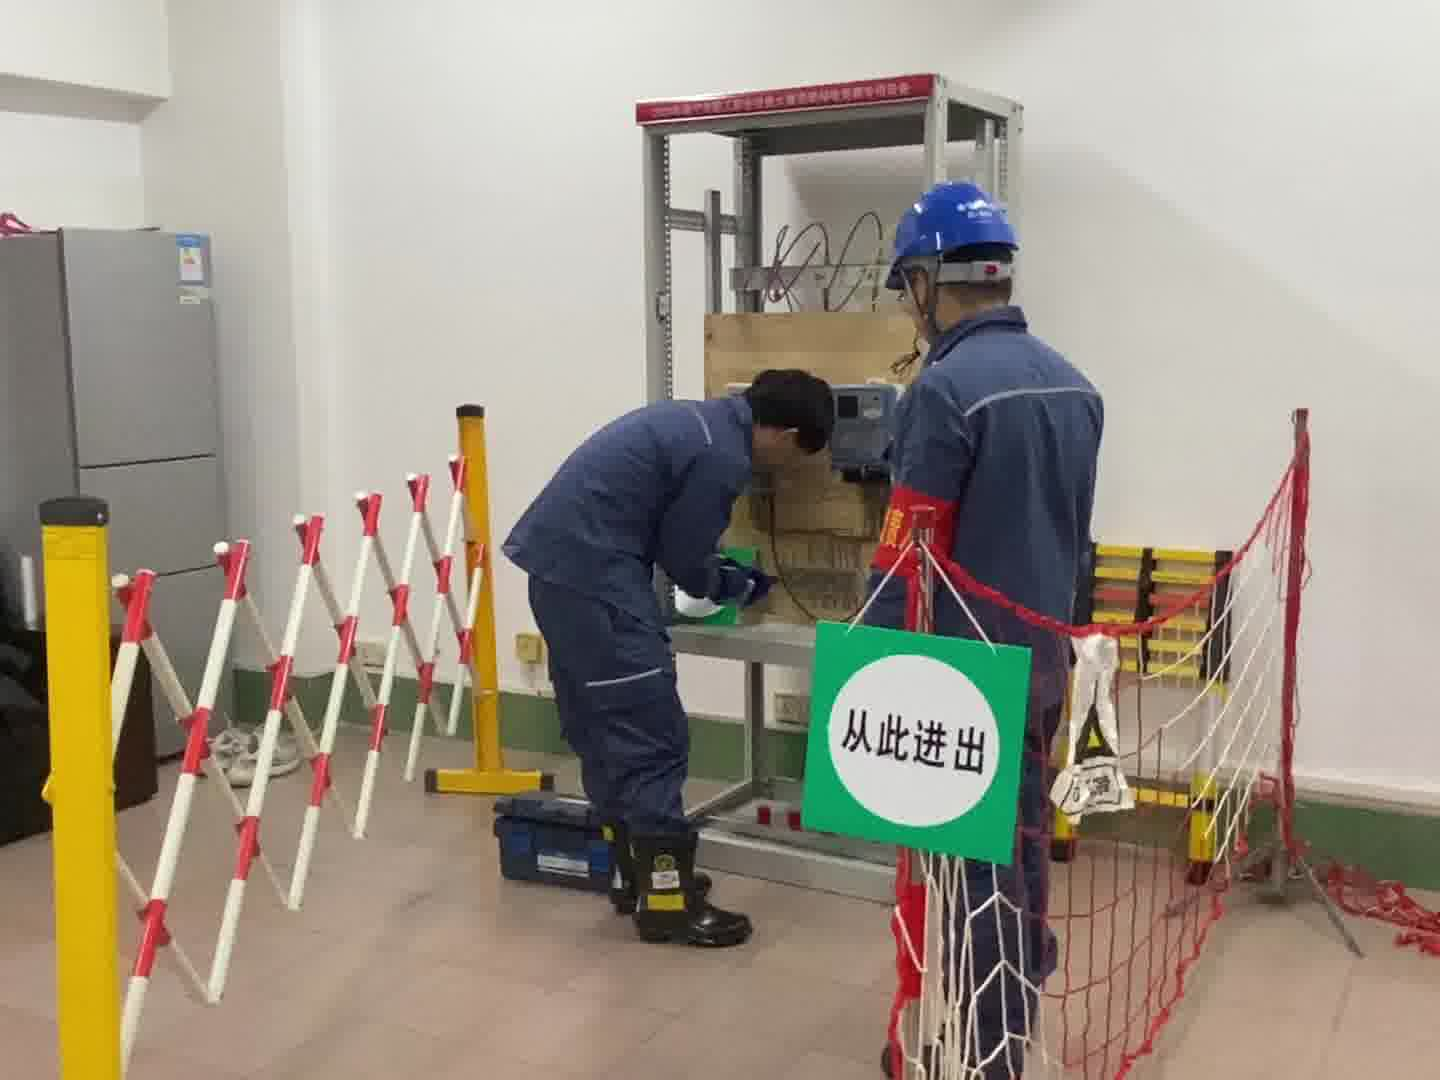badge: (868, 479, 958, 572)
downsuit: (518, 587, 702, 852), (940, 718, 1056, 1053)
glove: (713, 550, 781, 609)
halt: (886, 178, 1026, 338)
inear: (894, 260, 953, 332)
intosign: (788, 620, 1033, 862)
noear: (754, 422, 803, 459)
person: (856, 171, 1103, 1080), (505, 348, 847, 931)
shoe: (622, 840, 755, 947), (597, 812, 646, 918)
unhalt: (742, 366, 839, 482)
upsuit: (857, 307, 1110, 648), (509, 393, 752, 581)
